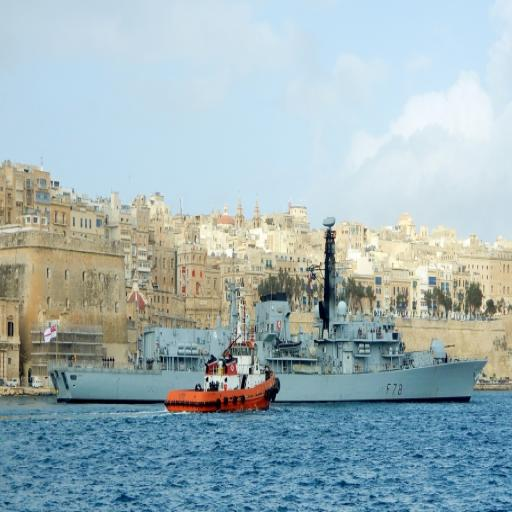Fragata: (51, 204, 489, 410)
